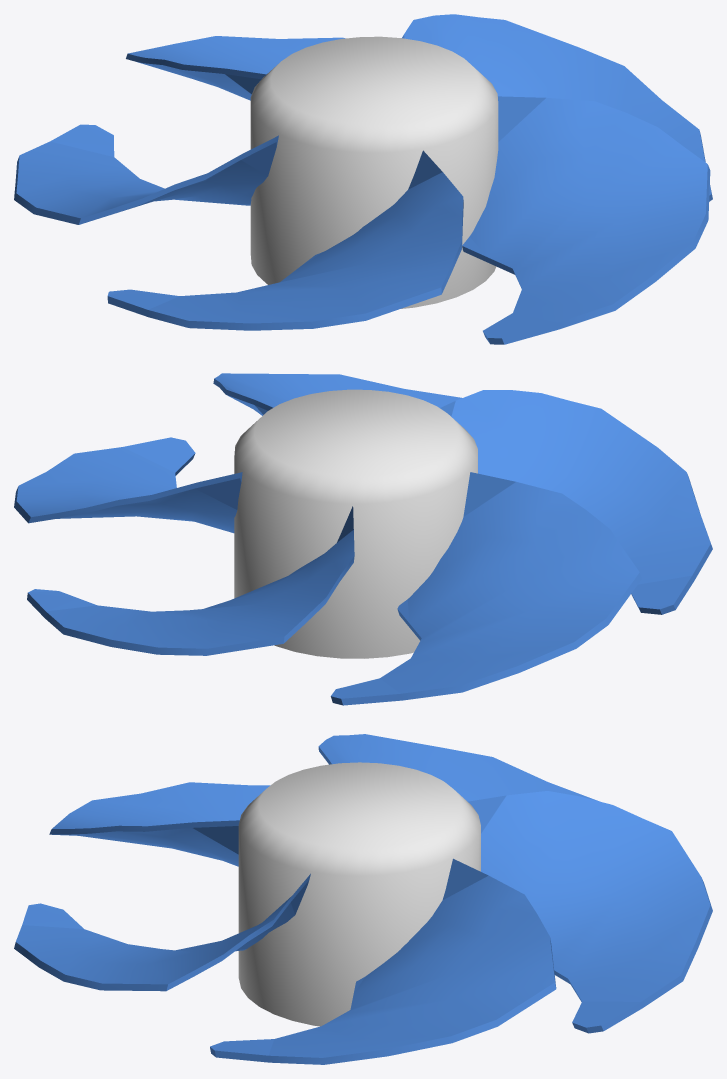
The model's file is fan.gltf.
3 renders of one model, top to bottom at view 1: azimuth 30°, elevation 25°; view 2: azimuth 150°, elevation 25°; view 3: azimuth 270°, elevation 25°, orthographic. The views are drawn at different scales.
Parts seen in each view (by area): view 1: 円, 平面.001, 平面, 平面.002, 平面.004, 平面.003; view 2: 円, 平面.004, 平面, 平面.003, 平面.002, 平面.001; view 3: 円, 平面.003, 平面.002, 平面.001, 平面, 平面.004.
Part boxes in pixels (bbox=[...]): 円: bbox=[250, 36, 498, 308]; 平面.001: bbox=[462, 96, 710, 344]; 平面: bbox=[107, 150, 463, 330]; 平面.002: bbox=[402, 14, 712, 201]; 平面.004: bbox=[14, 124, 278, 224]; 平面.003: bbox=[126, 36, 345, 100]; 円: bbox=[234, 389, 477, 658]; 平面.004: bbox=[330, 472, 641, 705]; 平面: bbox=[440, 390, 712, 614]; 平面.003: bbox=[27, 506, 354, 655]; 平面.002: bbox=[14, 437, 242, 533]; 平面.001: bbox=[213, 373, 461, 415]; 円: bbox=[238, 762, 480, 1026]; 平面.003: bbox=[468, 791, 712, 1033]; 平面.002: bbox=[210, 858, 556, 1064]; 平面.001: bbox=[14, 873, 310, 991]; 平面: bbox=[49, 782, 270, 866]; 平面.004: bbox=[318, 734, 598, 801].
Size of the model in its own units: 2.97 by 0.8314 by 3.04.
